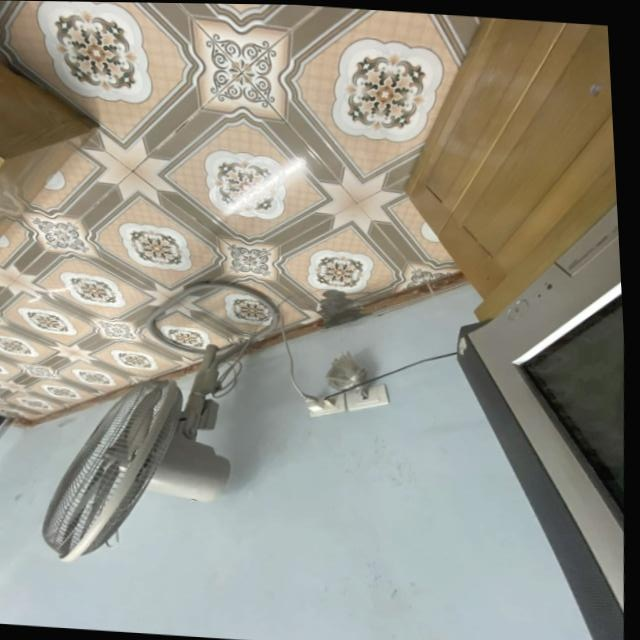outlet: (344, 382, 391, 414), (306, 390, 346, 420)
